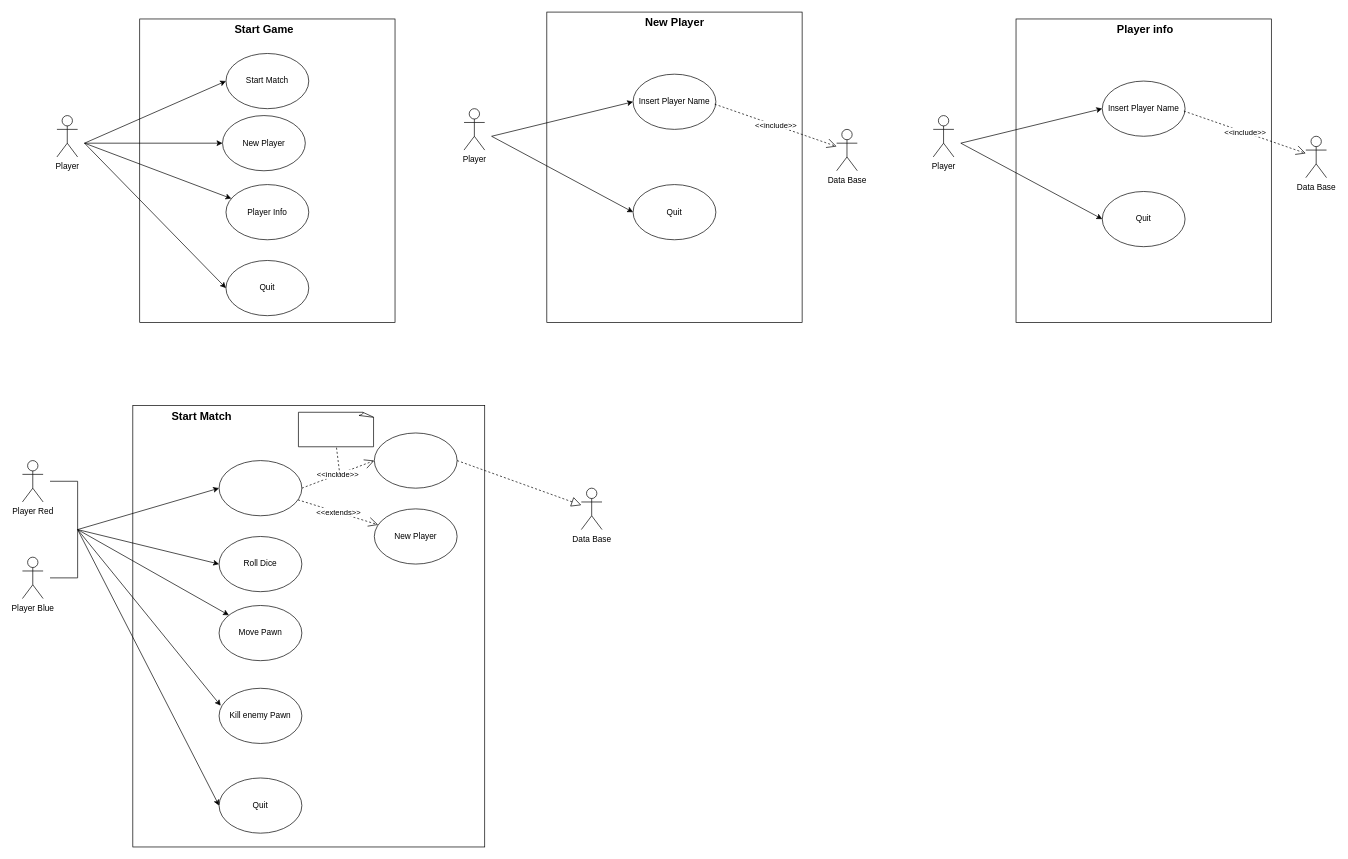
This 1348x859 diagram has some shape labels left out. Each missing label, with the centre of its shape:
Check Data base: the point at 415,460
Check is exist two or more players in data base: the point at 336,429
Insert Players Names: the point at 260,488
